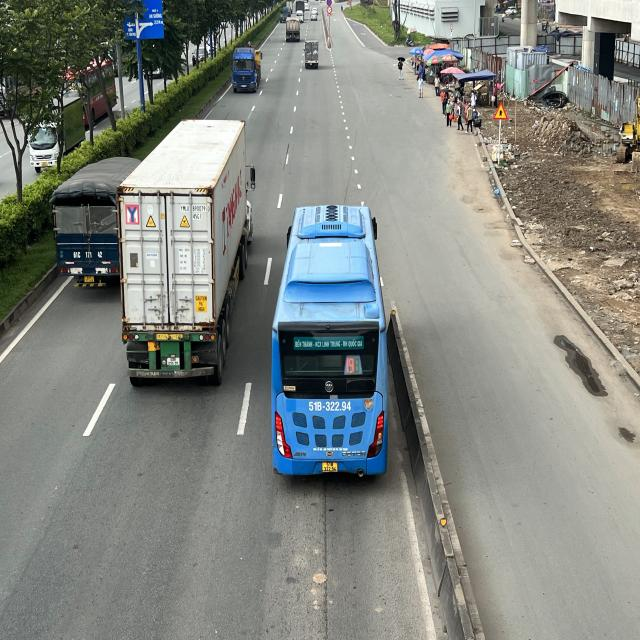coach: (269, 203, 390, 480)
container: (118, 120, 256, 385), (232, 46, 258, 92), (284, 17, 302, 42)
truck: (55, 153, 138, 289), (305, 40, 320, 68)
